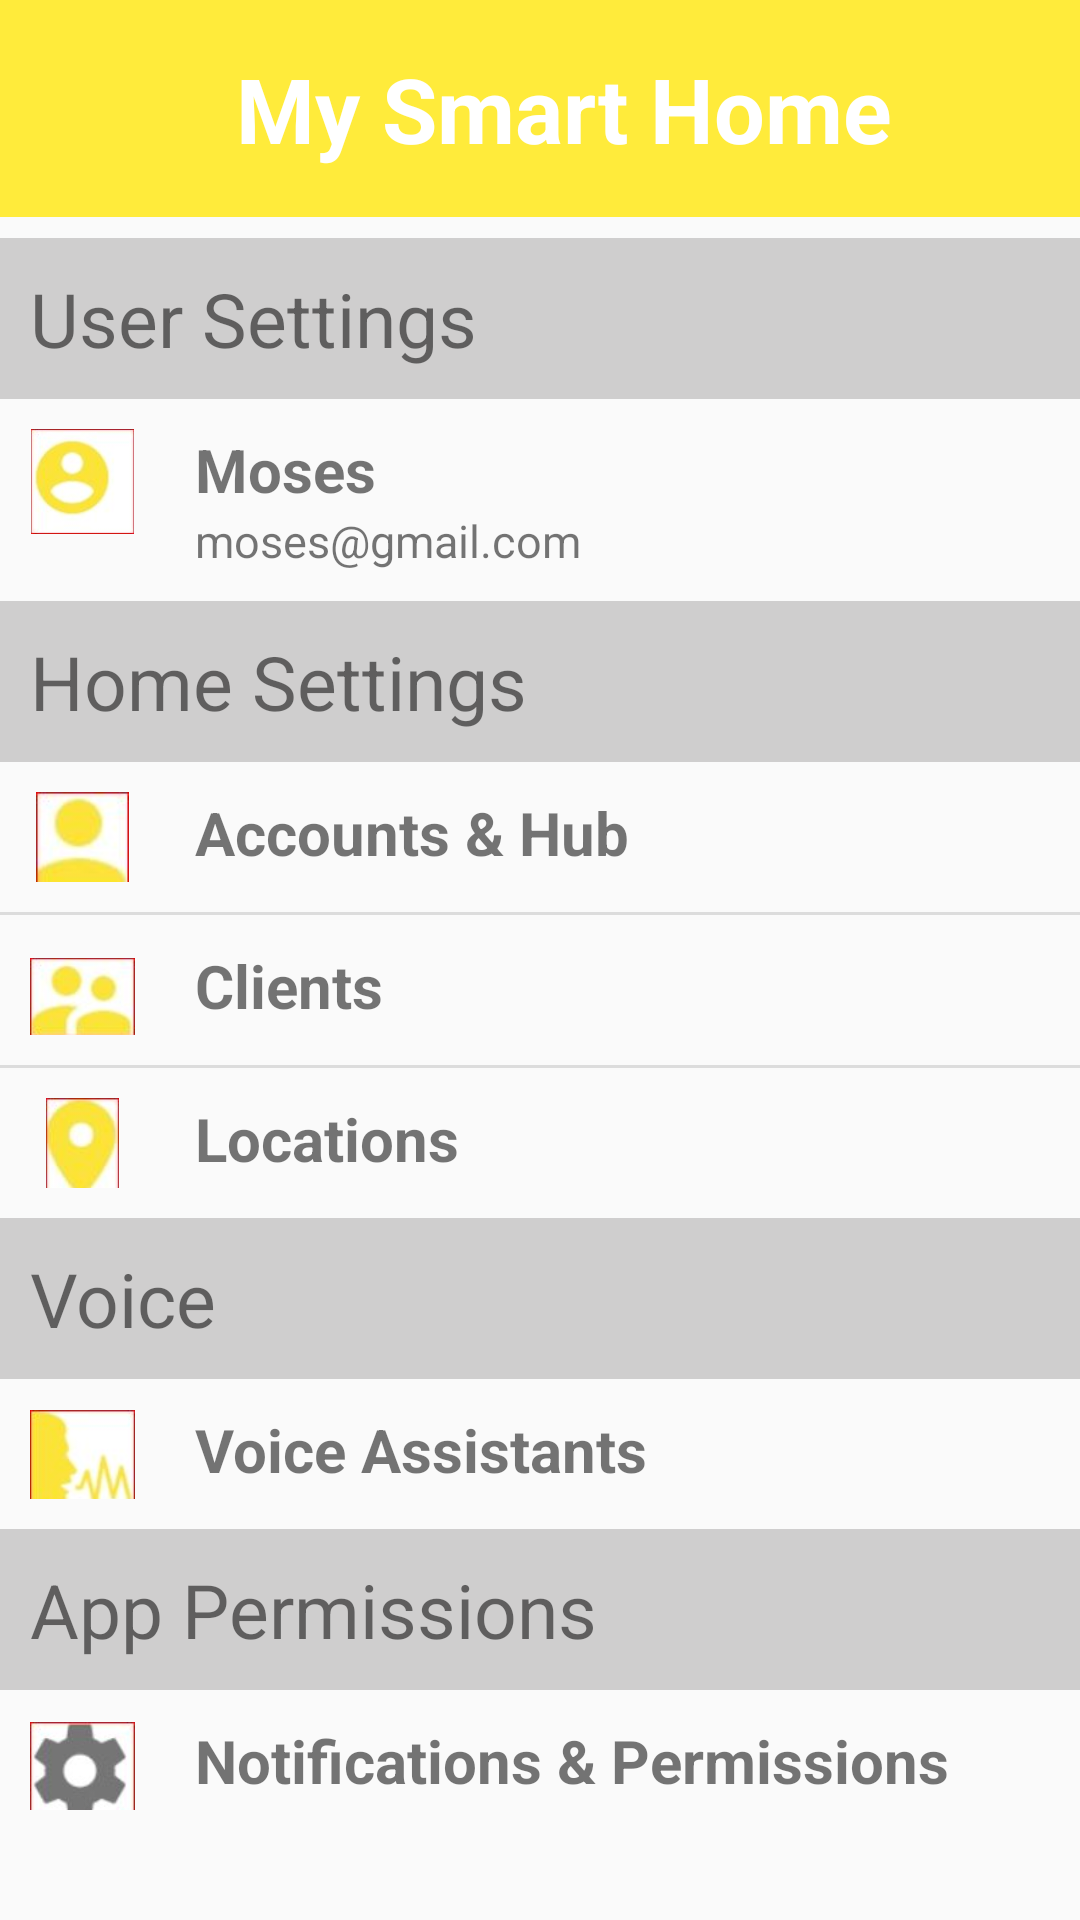

Icons on this 1080 x 1920 Android screen, each with its box as [left=x1, top=y1, right=x2, bottom=y2]:
set: [left=30, top=1722, right=135, bottom=1810]
